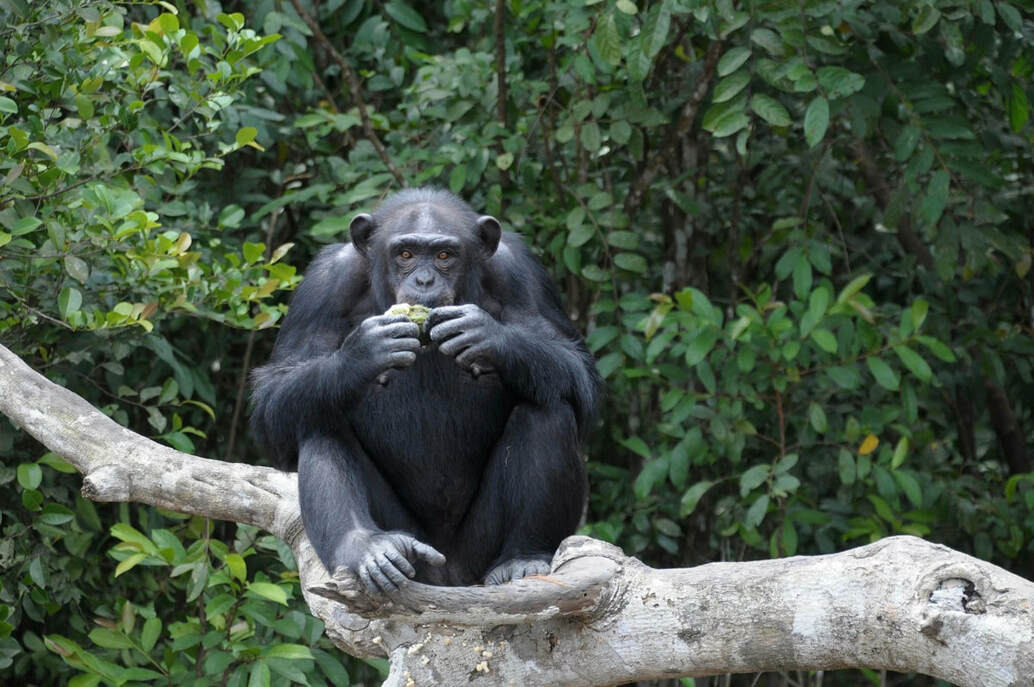Chimpanzee: (283, 188, 596, 571)
